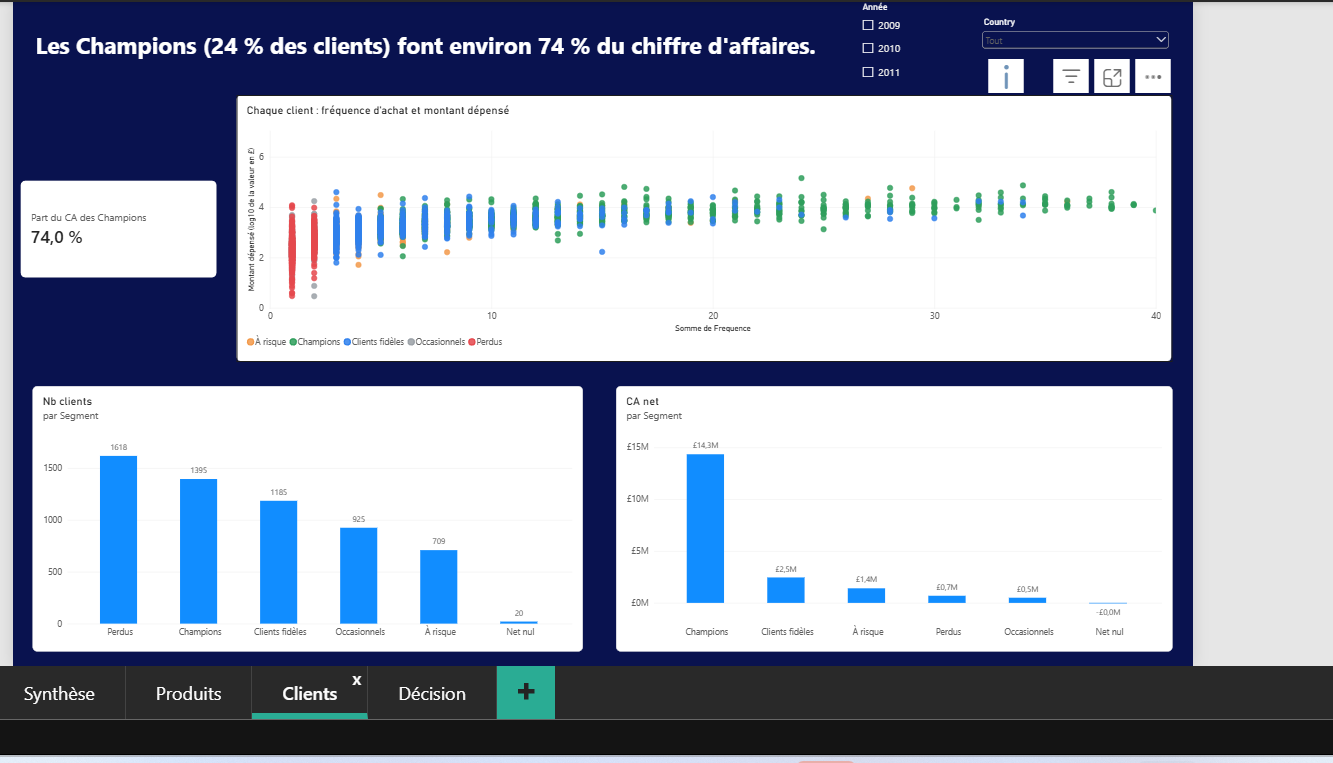

Layout of this report page (visuals, bound fields, positions):
{"tool":"powerbi","page":{"name":"Clients","canvas":[1920,1080],"ordinal":2},"visuals":[{"type":"textbox","box":[12.2,43.9,1317.5,95.2],"z":0},{"type":"slicer","fields":{"Values":["DimDate.Année"]},"box":[1374.3,0,164.3,131.5],"z":1000},{"type":"slicer","fields":{"Values":["DimPays.Country"]},"box":[1571.5,23.9,313.7,86.6],"z":2000},{"type":"cardVisual","fields":{"Data":["_Mesures.Part du CA des Champions"]},"box":[12,289.8,319.7,158.3],"z":7000},{"type":"clusteredColumnChart","fields":{"Category":["RFM.Segment"],"Y":["_Mesures.Nb clients"]},"box":[32.9,624.4,895.4,431.8],"z":7001},{"type":"clusteredColumnChart","fields":{"Category":["RFM.Segment"],"Y":["DimDate.CA net"]},"box":[979.9,624.4,905.2,431.8],"z":7002},{"type":"scatterChart","title":"Chaque client : fréquence d''achat et montant dépensé","fields":{"Category":["RFM.Customer ID"],"Series":["RFM.Segment"],"X":["Sum(RFM.Frequence)"],"Y":["Sum(RFM.Log Montant)"]},"box":[364.5,152.4,1520.7,433.2],"z":7003}]}

Visuals, with their boxes on the page's 1920x1080 design canvas (x1, y1, x2, y2). These are canvas units, not pixel positions in the 1333x763 screenshot, which may show the page scaled, cropped or inside an application window:
textbox: (x1=12, y1=44, x2=1330, y2=139)
slicer - DimDate.Année: (x1=1374, y1=0, x2=1539, y2=132)
slicer - DimPays.Country: (x1=1572, y1=24, x2=1885, y2=110)
cardVisual - _Mesures.Part du CA des Champions: (x1=12, y1=290, x2=332, y2=448)
clusteredColumnChart - RFM.Segment x _Mesures.Nb clients: (x1=33, y1=624, x2=928, y2=1056)
clusteredColumnChart - RFM.Segment x DimDate.CA net: (x1=980, y1=624, x2=1885, y2=1056)
"Chaque client : fréquence d''achat et montant dépensé" scatterChart: (x1=364, y1=152, x2=1885, y2=586)
